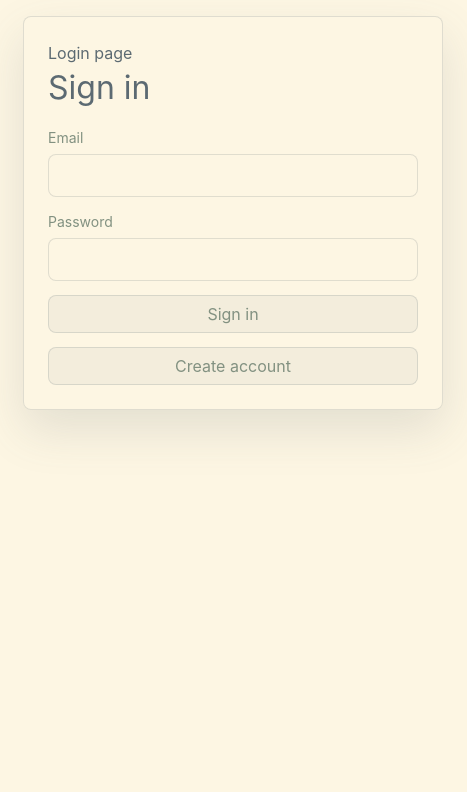
it: LoginPage registration status messaging › shows manual review messaging when the backend returns a pending registration
The width and height of the screenshot is (467, 792).
Click the button "Create account" at (233, 366), box x1=48 y1=347 x2=418 y2=385
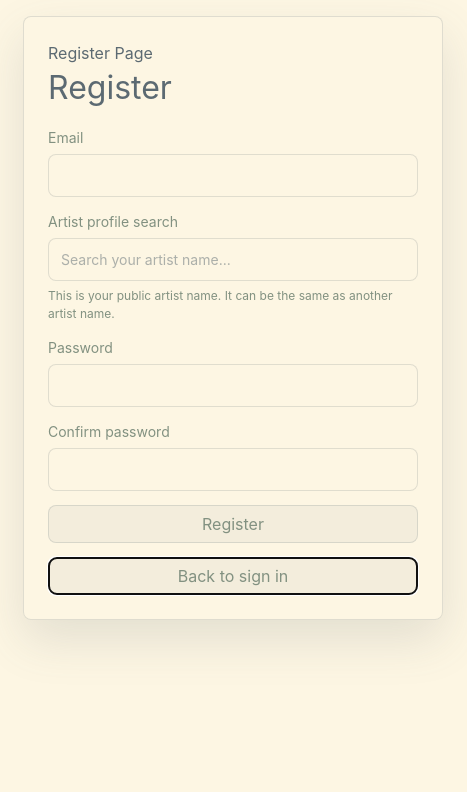
Type "friend@example.com" into the field labelled "Email" at (233, 176), box x1=48 y1=154 x2=418 y2=197
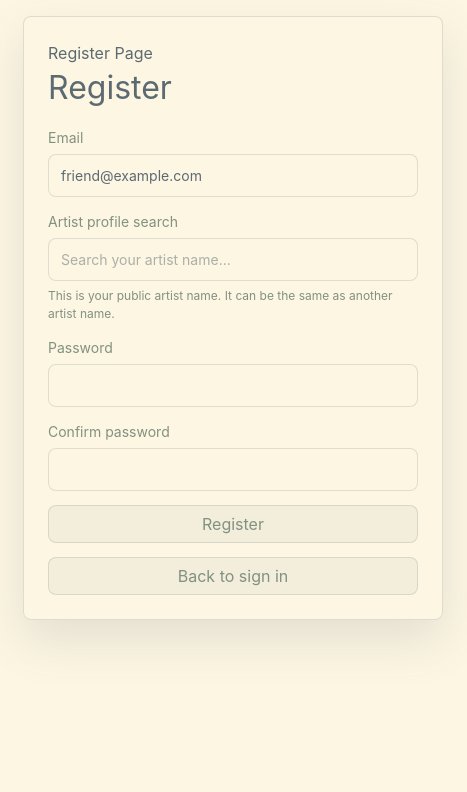
Type "Friend Artist" into the search field labelled "Artist profile search" at (233, 260), box x1=48 y1=238 x2=418 y2=281
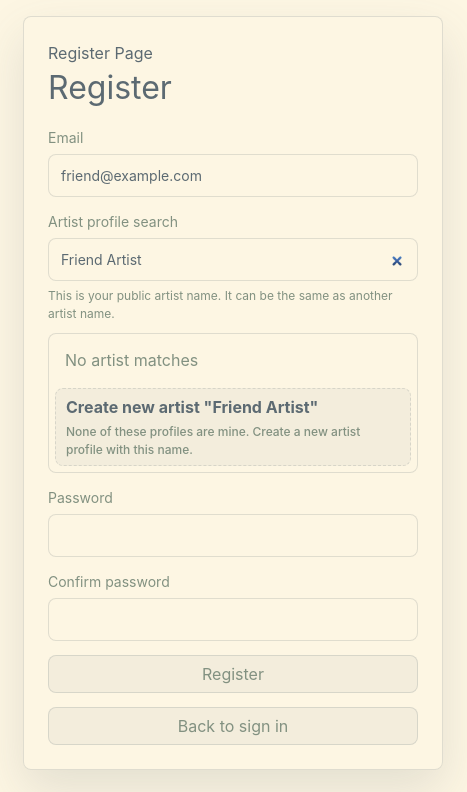
Click the button "Create new artist \"Friend Artist\"" at (233, 427), box x1=55 y1=388 x2=411 y2=466
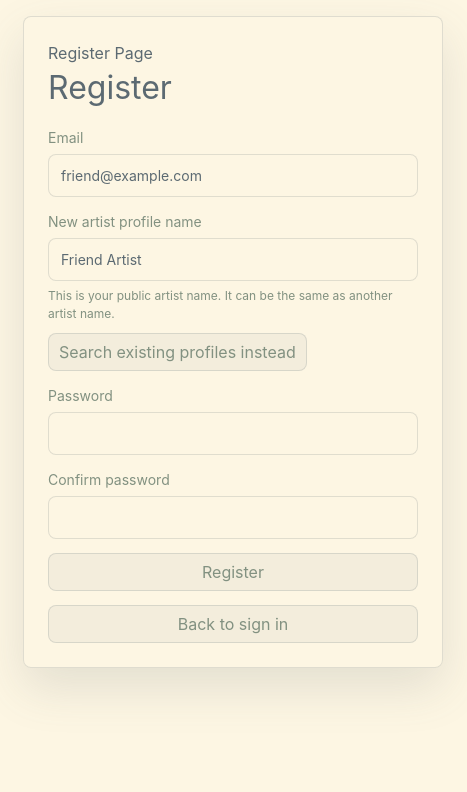
Type "Password123" into the password field labelled "Password" at (233, 434), box x1=48 y1=412 x2=418 y2=455
Type "Password123" into the password field labelled "Confirm password" at (233, 518), box x1=48 y1=496 x2=418 y2=539
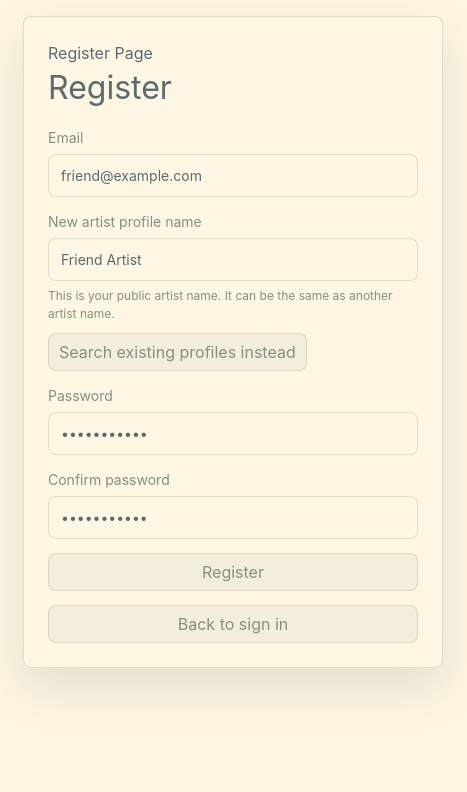
Click the button "Register" at (233, 572), box x1=48 y1=553 x2=418 y2=591
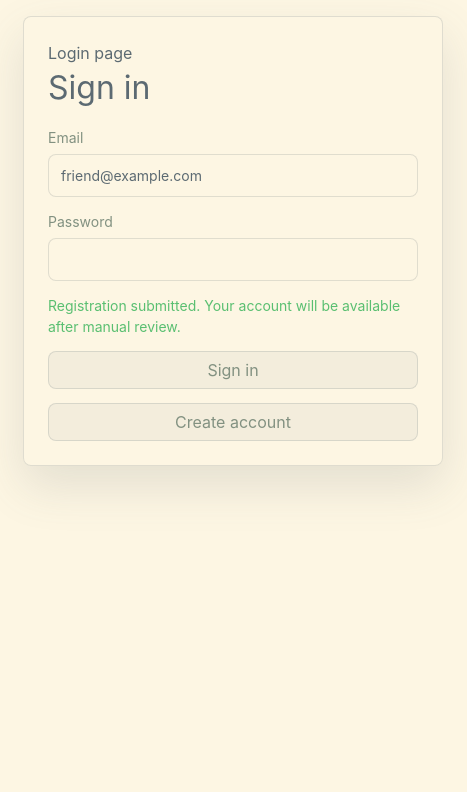
Now the text "Registration submitted. Your account will be available after manual review." is shown, box x1=48 y1=295 x2=418 y2=337
